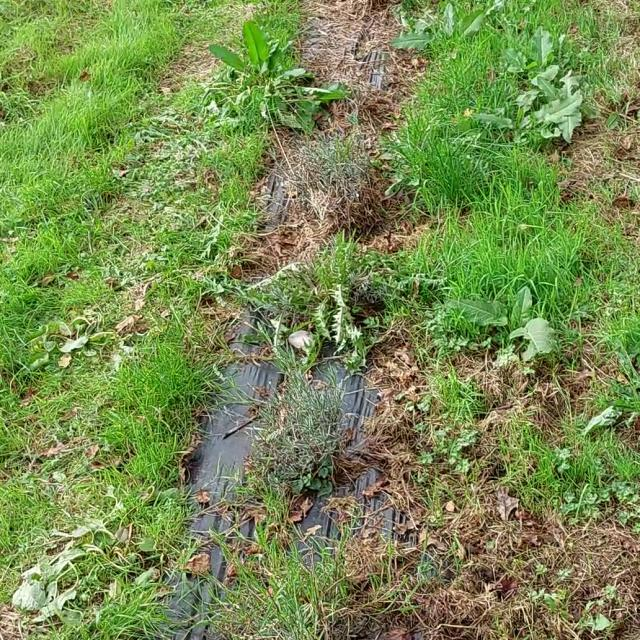organic waste: (200, 10, 334, 147), (481, 21, 589, 152), (456, 276, 582, 382), (16, 532, 130, 634), (379, 0, 463, 73)
